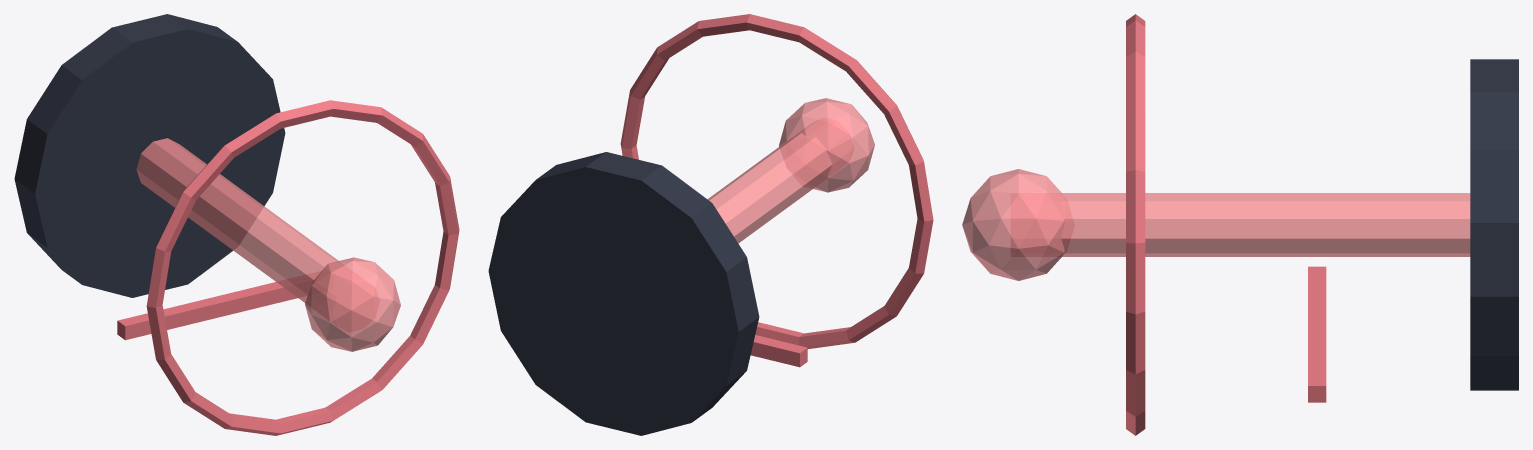
Rendered from 08_support_npc_assist_marker.glb.
The picture shows the model from 3 angles, left to right: view 1: azimuth 30°, elevation 25°; view 2: azimuth 150°, elevation 25°; view 3: azimuth 270°, elevation 25°; orthographic projection. The views are drawn at different scales.
Parts seen in each view (by area): view 1: assist_beacon_base, support_lock_ring, assist_column, npc_signal_core, support_direction_marker; view 2: assist_beacon_base, support_lock_ring, assist_column, npc_signal_core, support_direction_marker; view 3: assist_column, assist_beacon_base, npc_signal_core, support_lock_ring, support_direction_marker.
Part boxes in pixels (box(x1,y1,x2,y2)): assist_beacon_base: box(14, 14, 285, 297); support_lock_ring: box(146, 100, 459, 435); assist_column: box(136, 138, 338, 302); npc_signal_core: box(305, 257, 400, 351); support_direction_marker: box(117, 271, 320, 340); assist_beacon_base: box(488, 152, 759, 435); support_lock_ring: box(620, 14, 933, 348); assist_column: box(707, 133, 832, 243); npc_signal_core: box(779, 98, 874, 192); support_direction_marker: box(750, 335, 807, 367); assist_column: box(1061, 193, 1470, 256); assist_beacon_base: box(1470, 59, 1518, 390); npc_signal_core: box(962, 169, 1065, 280); support_lock_ring: box(1126, 14, 1145, 435); support_direction_marker: box(1308, 266, 1326, 402).
Size of the model in its own units: 1.05 by 1.03 by 1.38.
